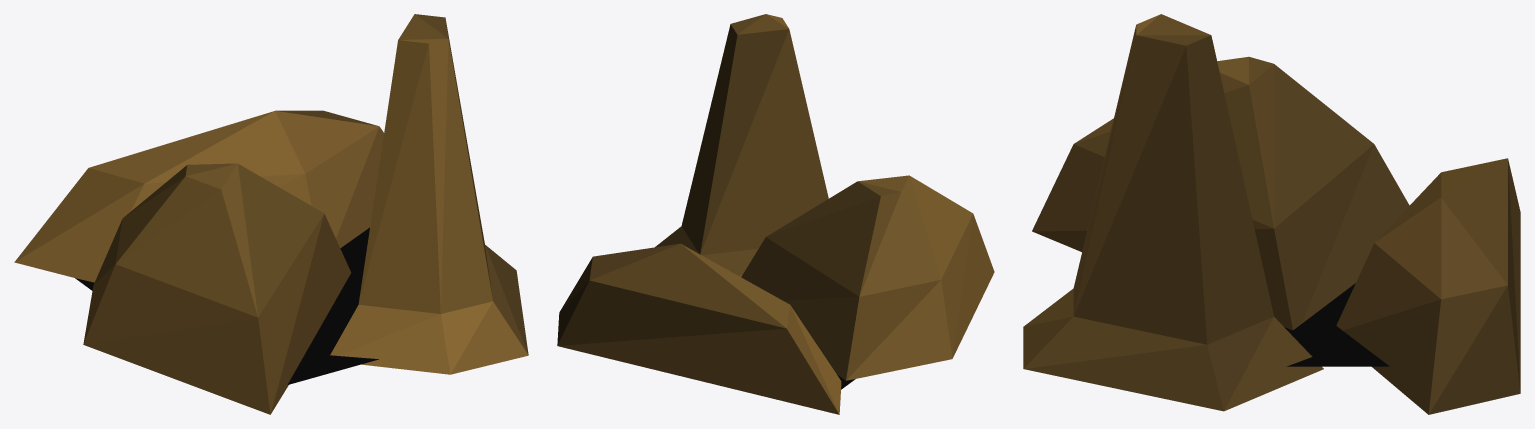
Rendered from clay-rocks.obj.
3 views of the same model, side by side, from view 1: azimuth 30°, elevation 25°; view 2: azimuth 150°, elevation 25°; view 3: azimuth 270°, elevation 25° (orthographic). The views are drawn at different scales.
Visible parts, largest first — view 1: Object Clay rocks 2026-10-06_18-25-47; view 2: Object Clay rocks 2026-10-06_18-25-47; view 3: Object Clay rocks 2026-10-06_18-25-47.
Boxes of the visible parts, x1=… form: Object Clay rocks 2026-10-06_18-25-47: x1=14, y1=14, x2=528, y2=414; Object Clay rocks 2026-10-06_18-25-47: x1=557, y1=14, x2=994, y2=414; Object Clay rocks 2026-10-06_18-25-47: x1=1023, y1=14, x2=1520, y2=414.
Bounding box in the file's own units: 125 × 84 × 119.
